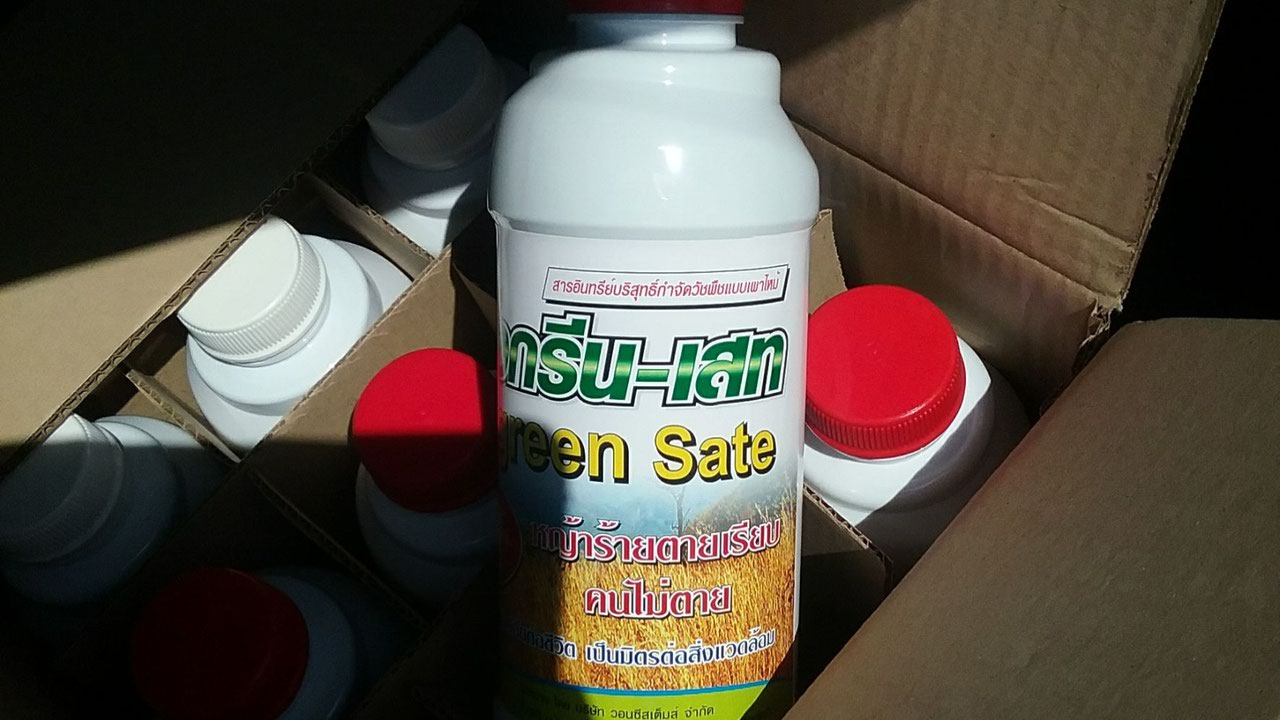Insecticide: (465, 19, 821, 720)
